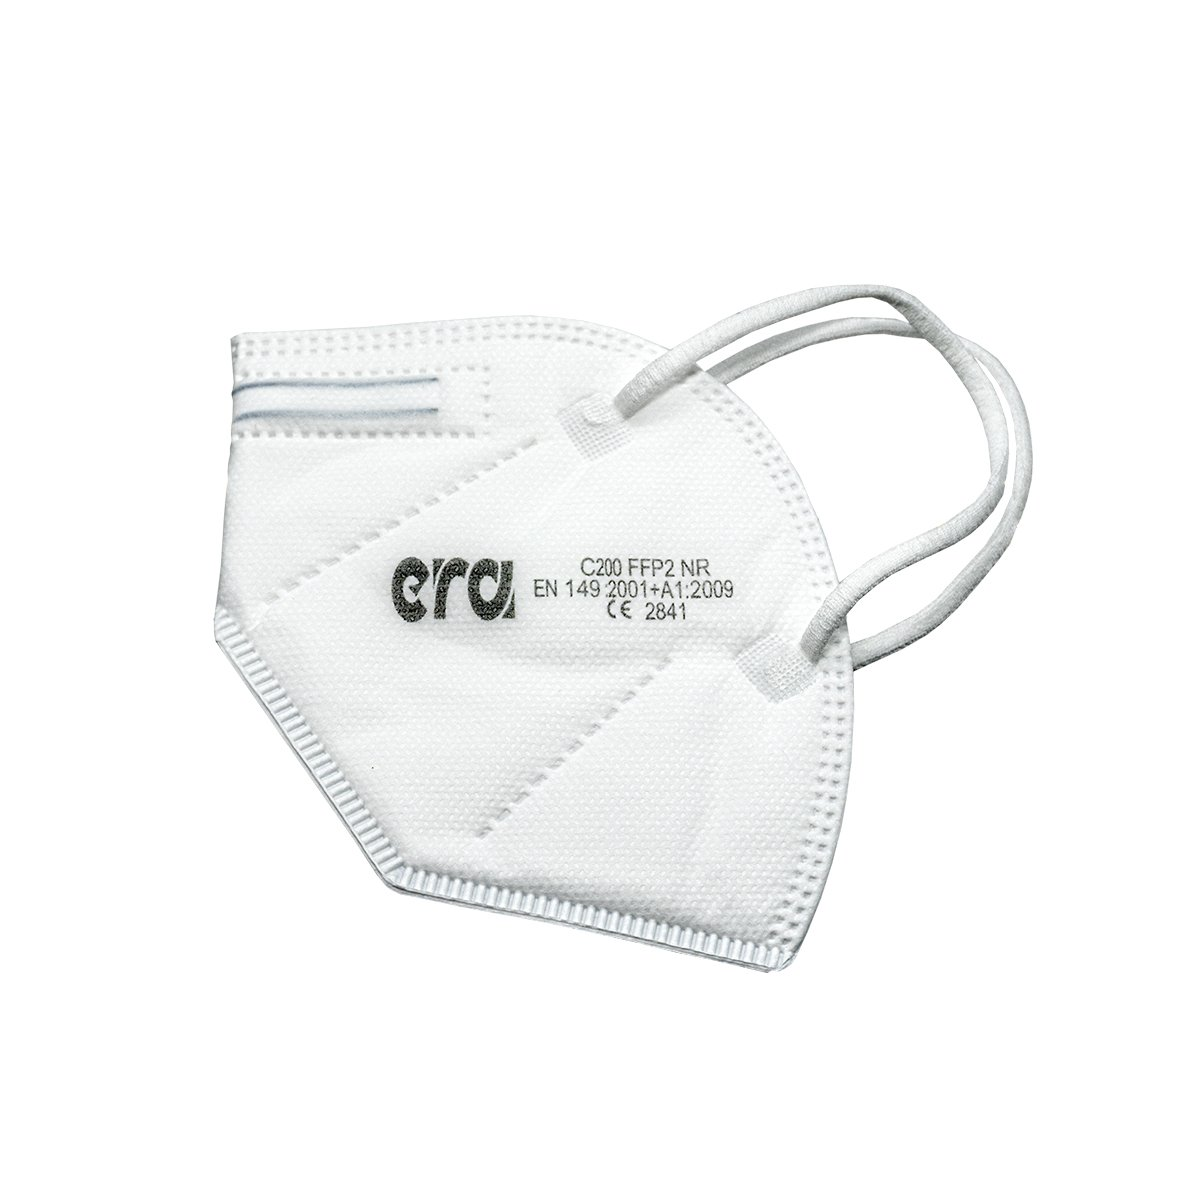maske: (210, 265, 1020, 981)
